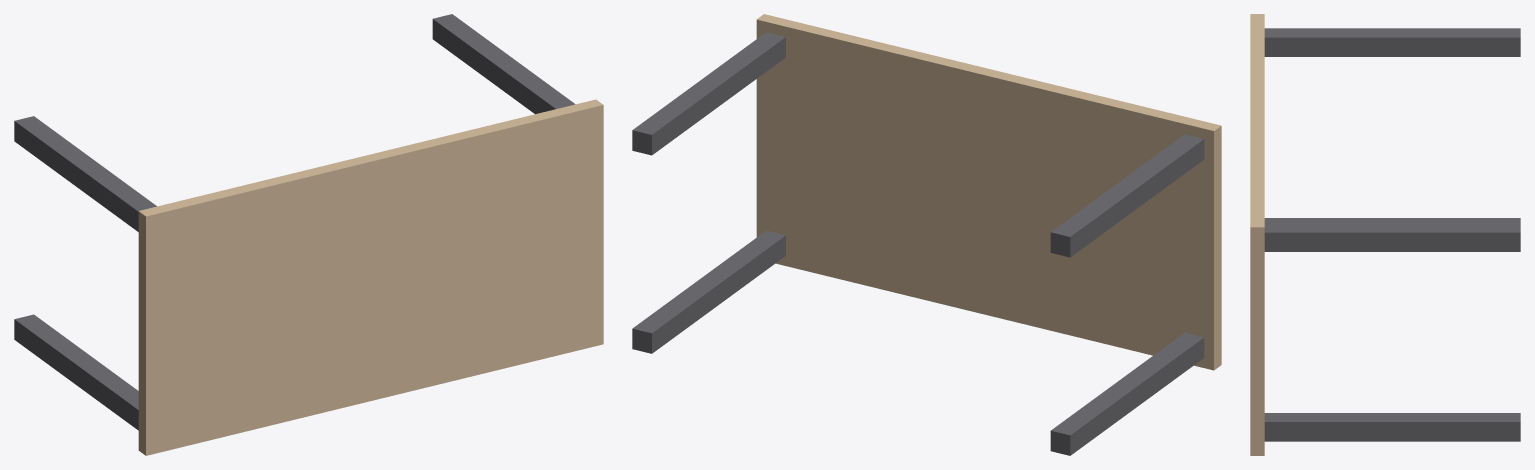
Rendered from table.glb.
The picture shows the model from 3 angles, left to right: view 1: azimuth 30°, elevation 25°; view 2: azimuth 150°, elevation 25°; view 3: azimuth 270°, elevation 25°; orthographic projection. The views are drawn at different scales.
Parts seen in each view (by area): view 1: wood, metal_black; view 2: wood, metal_black; view 3: metal_black, wood.
Boxes of the visible parts, left/top/right/bottom form: wood: left=138, top=99, right=603, bottom=455; metal_black: left=14, top=14, right=575, bottom=430; wood: left=756, top=14, right=1221, bottom=370; metal_black: left=632, top=32, right=1204, bottom=455; metal_black: left=1264, top=28, right=1520, bottom=441; wood: left=1250, top=14, right=1264, bottom=455.
Size of the model in its own units: 1.4 by 0.7 by 0.75.
